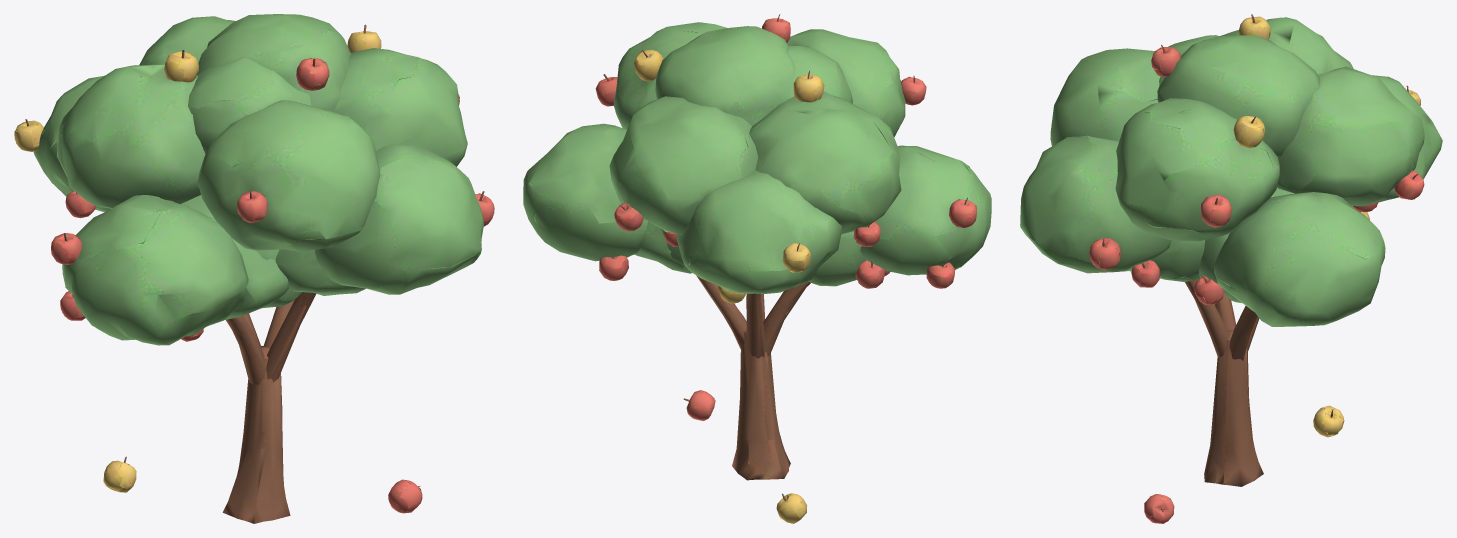
Rendered from apple-tree-light.glb.
3 renders of one model, left to right at view 1: azimuth 30°, elevation 25°; view 2: azimuth 150°, elevation 25°; view 3: azimuth 270°, elevation 25°, orthographic. The views are drawn at different scales.
Parts seen in each view (by area): view 1: apple-tree_body; view 2: apple-tree_body; view 3: apple-tree_body.
Boxes of the visible parts, <box> form: apple-tree_body: <box>14,14,494,523</box>; apple-tree_body: <box>523,14,991,523</box>; apple-tree_body: <box>1020,14,1442,523</box>.
Size of the model in its own units: 3.89 by 4.02 by 3.49.
Materials: 1 (1 with a texture image).
